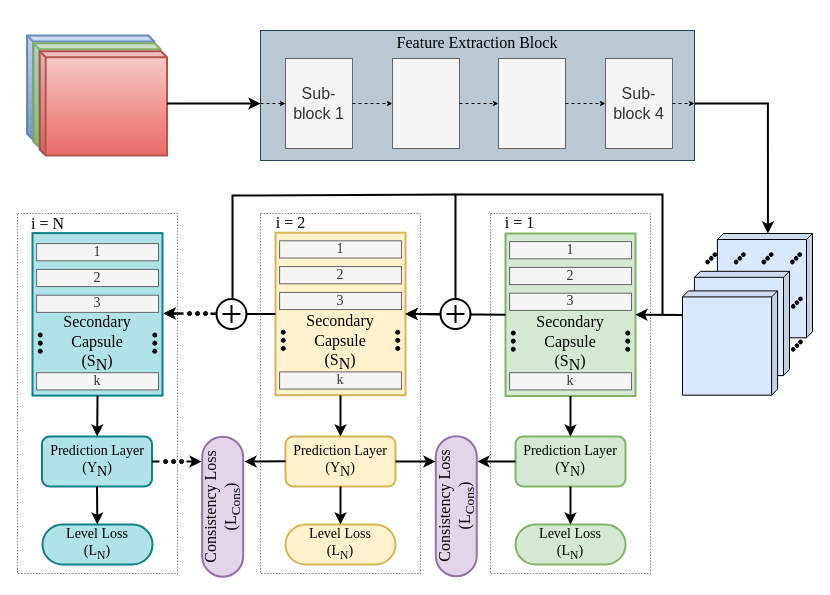
This 830x595 diagram has some shape labels left out. Each missing label, with the centre of its shape:
"Input Image" belongs at [103,103].
"Primary Capsule (P)" belongs at [730,342].
"Sub-block 2" belongs at [426,103].
"Sub-block 3" belongs at [532,103].
